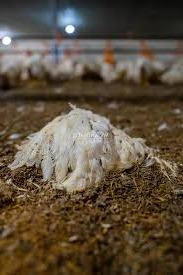AbNormal: (14, 98, 152, 198)
